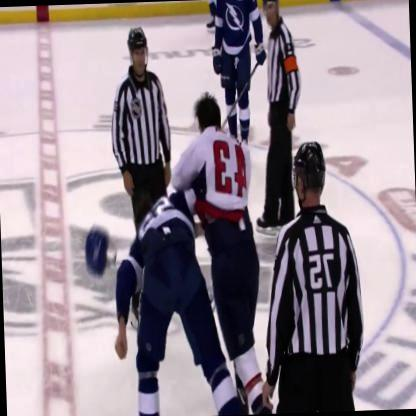non-Voilence: (254, 140, 368, 414), (245, 0, 307, 236)
voilence: (105, 93, 265, 415)
